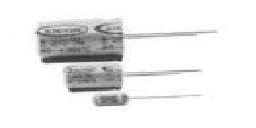Electrolytic-capacitor: (33, 17, 216, 61), (62, 61, 206, 90), (90, 89, 206, 113)
